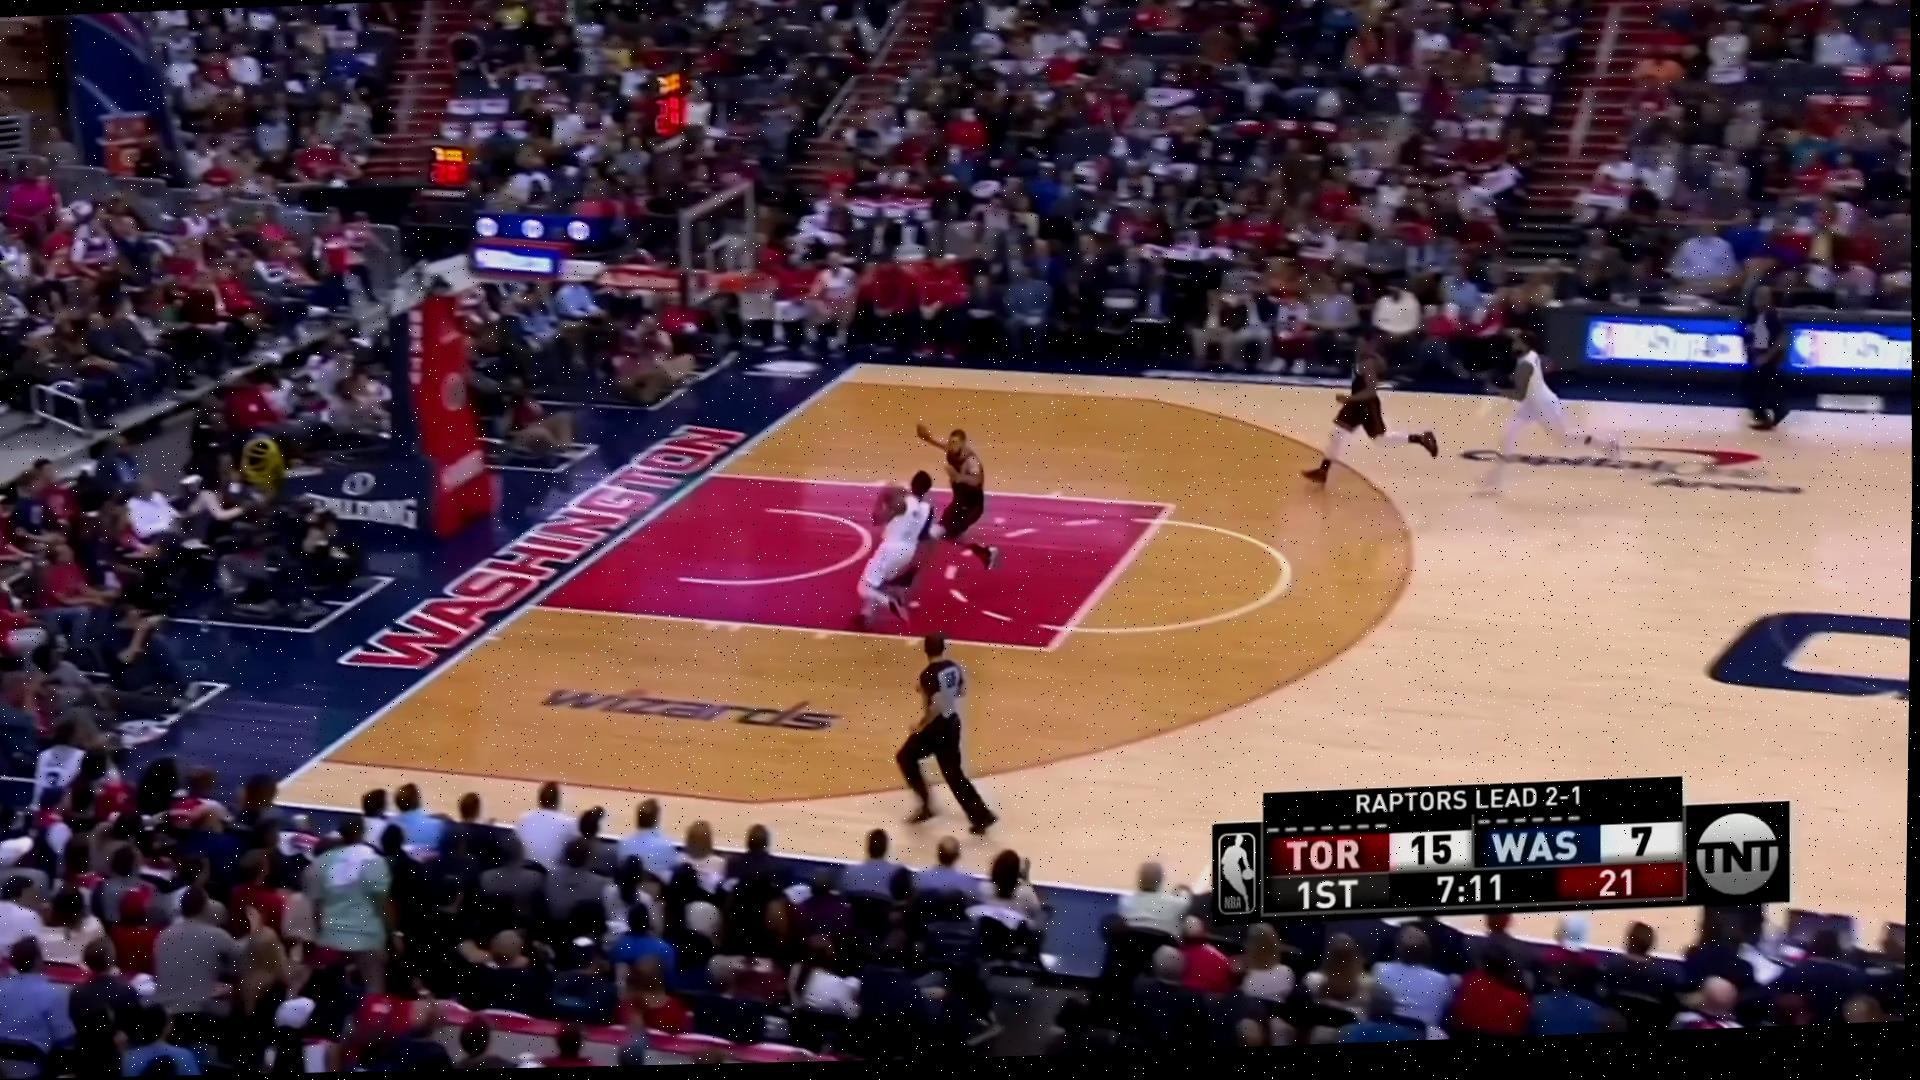no_foul: (815, 385, 1027, 628)
